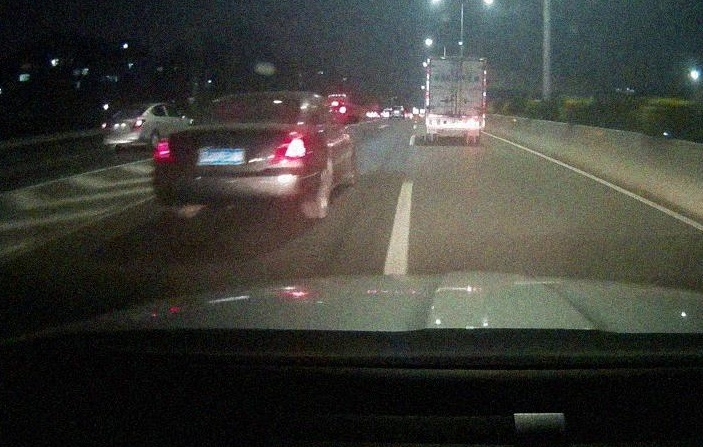L_light: (156, 138, 174, 161), (432, 118, 443, 125), (102, 121, 108, 130)
R_light: (272, 130, 307, 163), (133, 120, 146, 129), (468, 118, 479, 125)
T_light: (244, 96, 264, 101), (451, 58, 461, 61), (132, 104, 140, 106)
night-no: (426, 55, 487, 144), (102, 101, 151, 151)
night-right: (154, 93, 309, 219)
